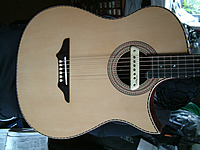guitar: (14, 5, 199, 141)
